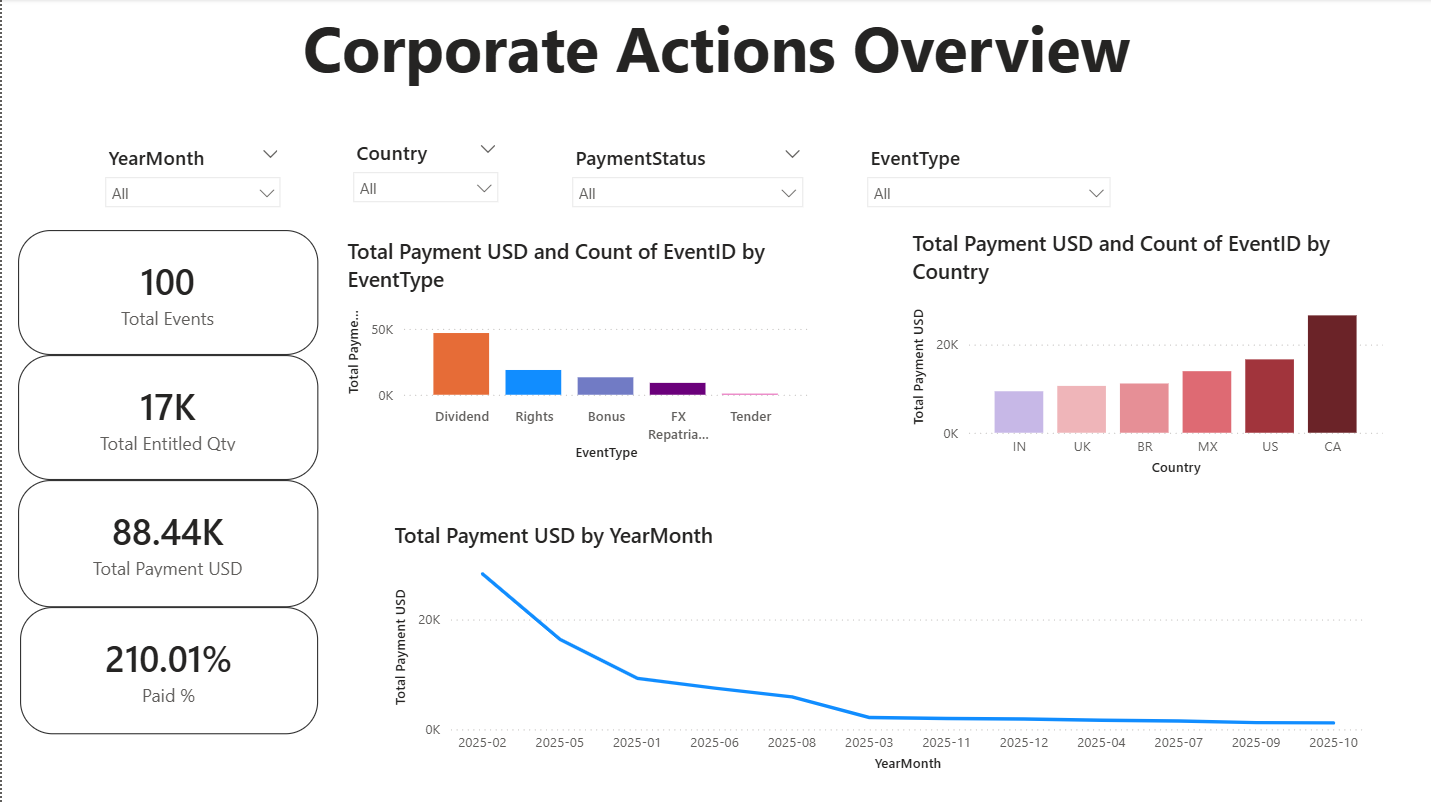

What the dashboard file says about the page in this screenshot:
{"tool":"powerbi","page":{"name":"Corporate Actions Overview","canvas":[1280,720],"ordinal":0},"visuals":[{"type":"cardVisual","fields":{"Data":["Count(Events.EventID)"]},"box":[14.2,206.5,268.7,112.1],"z":0},{"type":"textbox","box":[0,0,1279.7,88.7],"z":1000},{"type":"clusteredColumnChart","fields":{"Category":["Events.EventType"],"Y":["Payments.Total Payment USD"]},"box":[304.4,213.5,422.7,204.9],"z":2000},{"type":"clusteredColumnChart","fields":{"Category":["Entitlements.Country"],"Y":["Payments.Total Payment USD"]},"box":[810.8,206.3,431.4,225.1],"z":3000},{"type":"lineChart","fields":{"Category":["DimDate.YearMonth"],"Y":["Payments.Total Payment USD"]},"box":[346.3,467.5,878.6,229.4],"z":4000},{"type":"slicer","fields":{"Values":["DimDate.YearMonth"]},"box":[82.2,124.1,177.5,73.6],"z":5000},{"type":"slicer","fields":{"Values":["Events.EventType"]},"box":[764.7,124.1,238.1,67.8],"z":6000},{"type":"slicer","fields":{"Values":["Entitlements.Country"]},"box":[304.4,119.7,150,67.8],"z":7000},{"type":"slicer","fields":{"Values":["Payments.PaymentStatus"]},"box":[500.6,124.1,226.5,63.5],"z":8000},{"type":"cardVisual","fields":{"Data":["Entitlements.Total Entitled Qty"]},"box":[14.2,318.6,268.7,112.1],"z":9000},{"type":"cardVisual","fields":{"Data":["Payments.Total Payment USD"]},"box":[14.2,430.7,268.7,113.9],"z":10000},{"type":"cardVisual","fields":{"Data":["Payments.Paid %","select"]},"box":[16,544.6,267,113.9],"z":11000}]}

Visuals, with their boxes in screenshot pixels (x1, y1, x2, y2), scaled from the page's 1280x720 canvas onto the 1431x803 screenshot:
cardVisual - Count(Events.EventID): box=[16, 230, 316, 355]
textbox: box=[0, 0, 1430, 99]
clusteredColumnChart - Events.EventType x Payments.Total Payment USD: box=[340, 238, 813, 467]
clusteredColumnChart - Entitlements.Country x Payments.Total Payment USD: box=[906, 230, 1389, 481]
lineChart - DimDate.YearMonth x Payments.Total Payment USD: box=[387, 521, 1369, 777]
slicer - DimDate.YearMonth: box=[92, 138, 290, 220]
slicer - Events.EventType: box=[855, 138, 1121, 214]
slicer - Entitlements.Country: box=[340, 133, 508, 209]
slicer - Payments.PaymentStatus: box=[560, 138, 813, 209]
cardVisual - Entitlements.Total Entitled Qty: box=[16, 355, 316, 480]
cardVisual - Payments.Total Payment USD: box=[16, 480, 316, 607]
cardVisual - Payments.Paid % x select: box=[18, 607, 316, 734]
